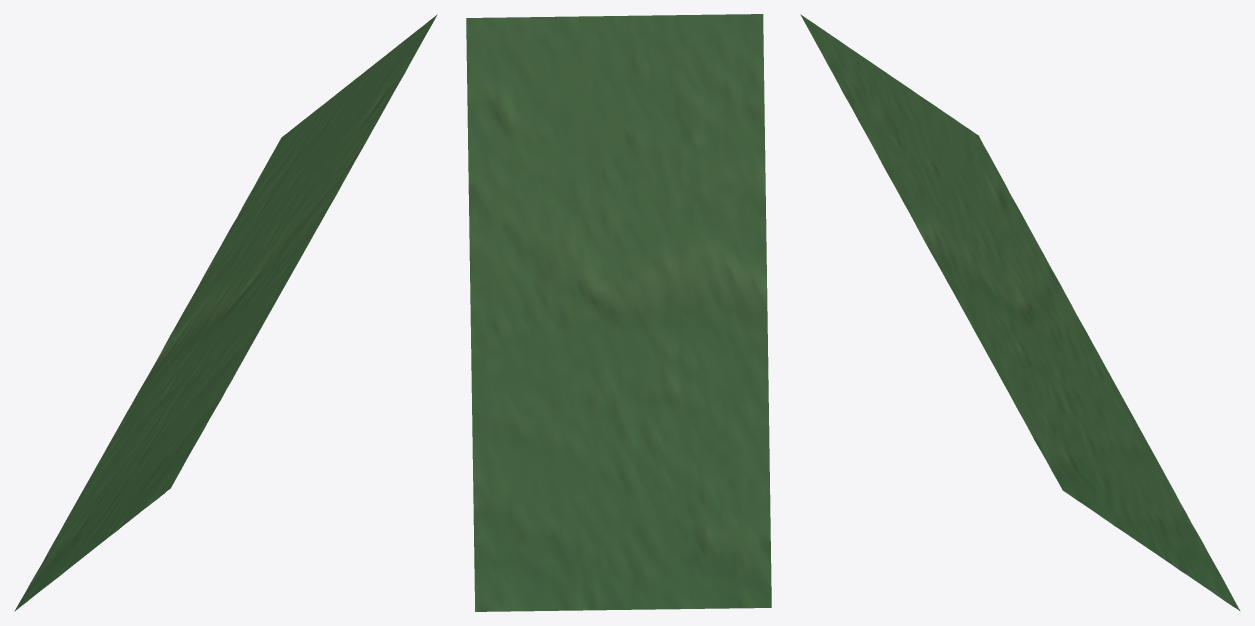
3 views of the same model, side by side, from view 1: azimuth 30°, elevation 25°; view 2: azimuth 150°, elevation 25°; view 3: azimuth 270°, elevation 25° (orthographic). The views are drawn at different scales.
Bounding box in the file's own units: 9913 × 13253 × 9704.
